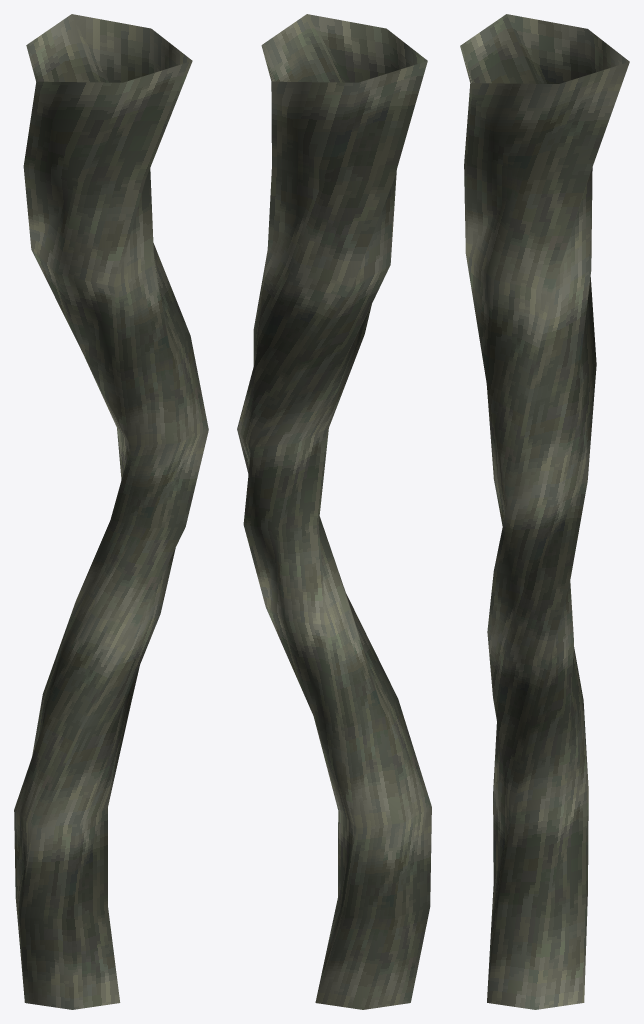
Rendered from INST_TROLLHOLE_ROOTC.fbx.
3 renders of one model, left to right at view 1: azimuth 30°, elevation 25°; view 2: azimuth 150°, elevation 25°; view 3: azimuth 270°, elevation 25°, orthographic. The views are drawn at different scales.
Parts seen in each view (by area): view 1: INST_TROLLHOLE_ROOTC; view 2: INST_TROLLHOLE_ROOTC; view 3: INST_TROLLHOLE_ROOTC.
Part boxes in pixels (bbox=[...]): INST_TROLLHOLE_ROOTC: bbox=[14, 14, 208, 1009]; INST_TROLLHOLE_ROOTC: bbox=[237, 14, 431, 1009]; INST_TROLLHOLE_ROOTC: bbox=[460, 14, 629, 1009].
Size of the model in its own units: 12390 by 60507 by 9788.
1 material, 1 textured.
